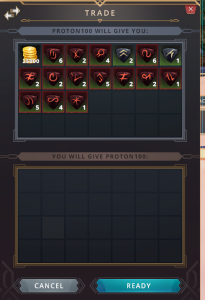gold: (19, 43, 40, 64)
